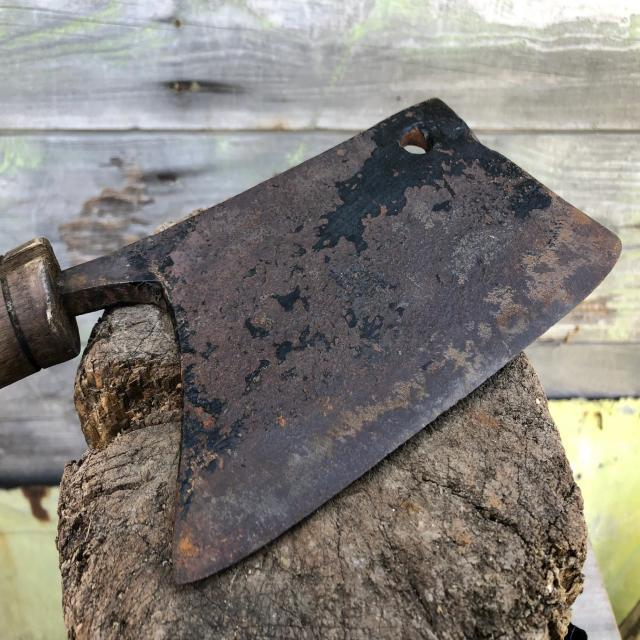cleaver: (0, 102, 624, 580)
